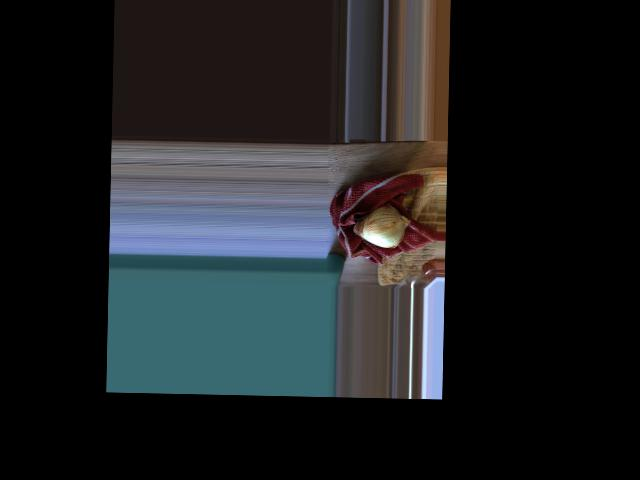onion: (356, 203, 406, 251)
